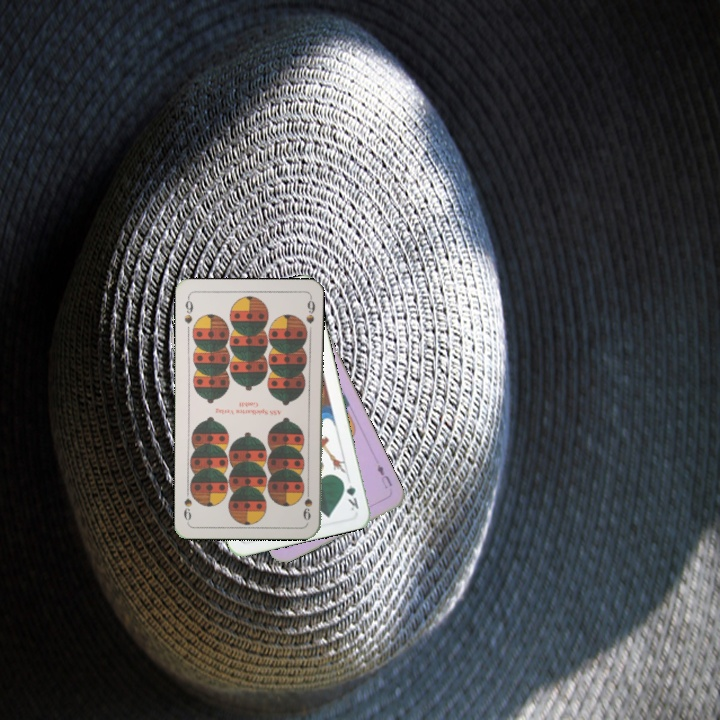EU: (373, 460, 395, 491)
GK: (338, 473, 361, 513)
S9: (299, 482, 315, 523), (180, 293, 196, 326)
